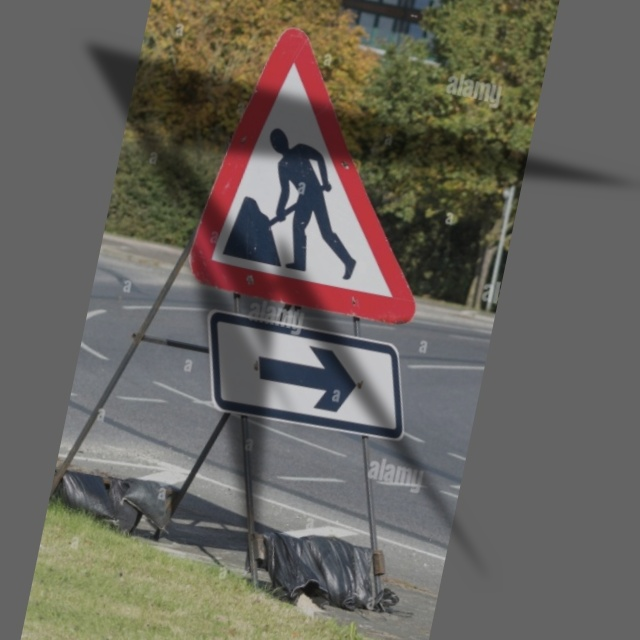Men_at_Work: (160, 14, 474, 331)
